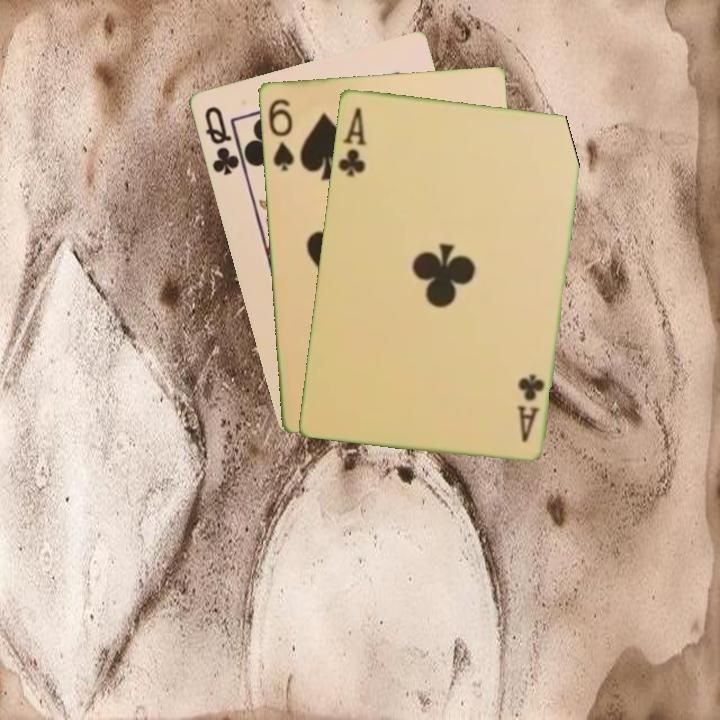6s: (264, 95, 297, 174)
Ac: (334, 104, 369, 179), (513, 370, 547, 444)
Qc: (200, 102, 247, 178)
